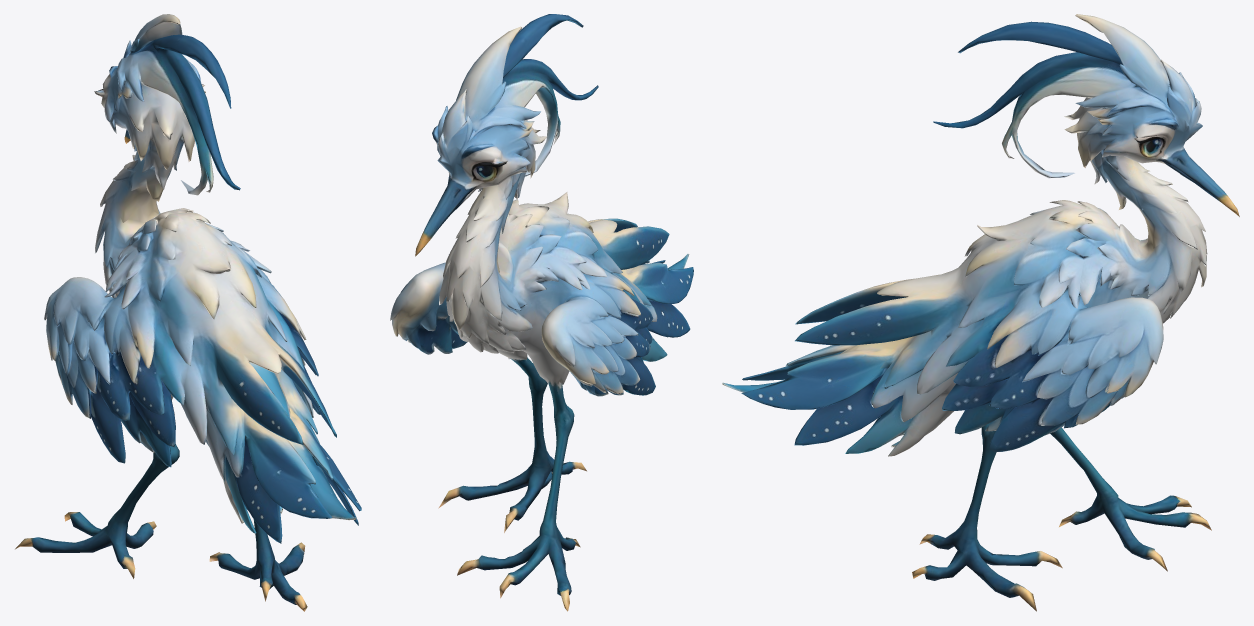
File: starheron.glb
3 renders of one model, left to right at view 1: azimuth 30°, elevation 25°; view 2: azimuth 150°, elevation 25°; view 3: azimuth 270°, elevation 25°, orthographic. The views are drawn at different scales.
Parts seen in each view (by area): view 1: tripo_node_e39b9903-3ddf-4830-b9c9-db0577a86f57; view 2: tripo_node_e39b9903-3ddf-4830-b9c9-db0577a86f57; view 3: tripo_node_e39b9903-3ddf-4830-b9c9-db0577a86f57.
Boxes of the visible parts, box(x1,y1,x2,y2) form: tripo_node_e39b9903-3ddf-4830-b9c9-db0577a86f57: box(15, 14, 361, 611); tripo_node_e39b9903-3ddf-4830-b9c9-db0577a86f57: box(390, 14, 693, 611); tripo_node_e39b9903-3ddf-4830-b9c9-db0577a86f57: box(722, 14, 1239, 611).
Bounding box in the file's own units: 0.4119 × 0.9809 × 0.8404.
Materials: 1 (1 with a texture image).
